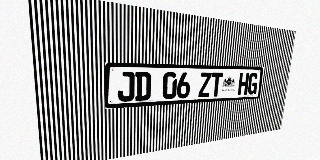0: (162, 72, 177, 99)
6: (176, 72, 191, 99)
D: (135, 72, 151, 101)
G: (247, 73, 259, 95)
H: (237, 73, 249, 95)
J: (117, 72, 135, 102)
T: (210, 72, 223, 97)
Z: (198, 72, 212, 97)
